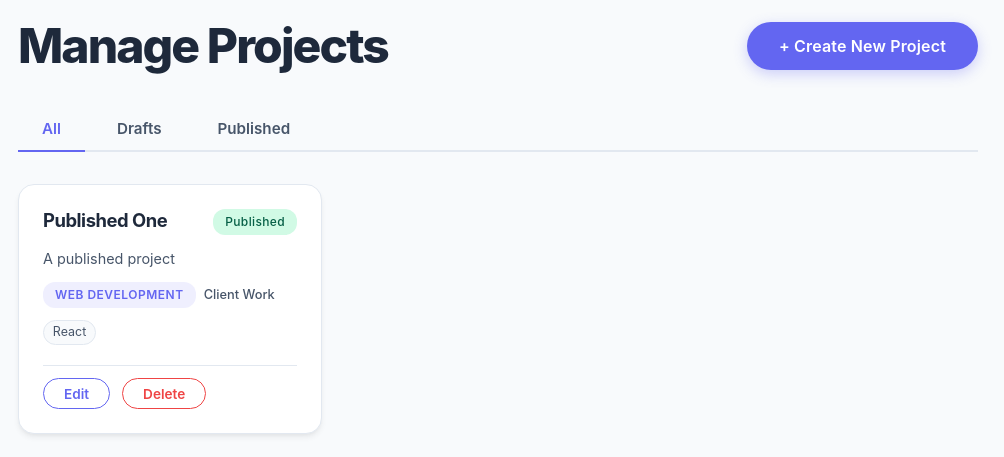
ProjectsManager › Empty states › shows empty drafts message
Click the tab "Drafts" at (139, 129), box [93,107,186,152]
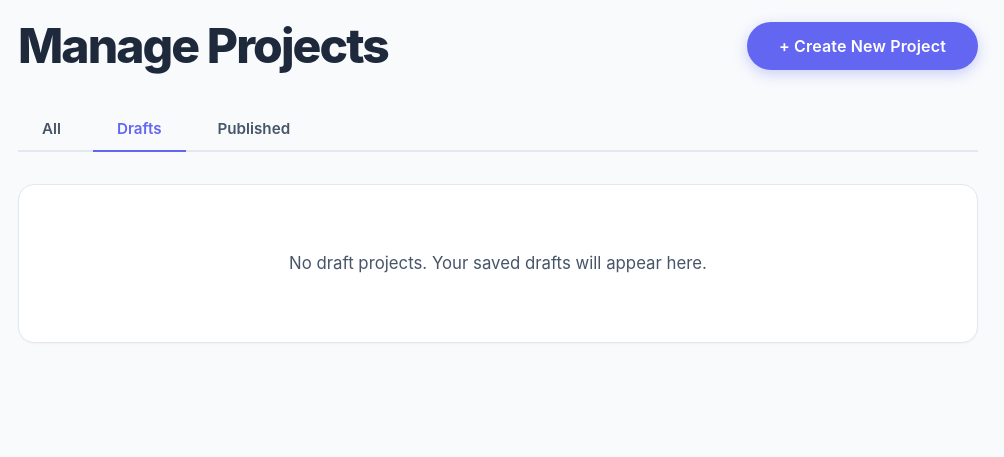
Expected: the text "No draft projects. Your saved drafts will appear here." is shown, [289,253,707,273]
